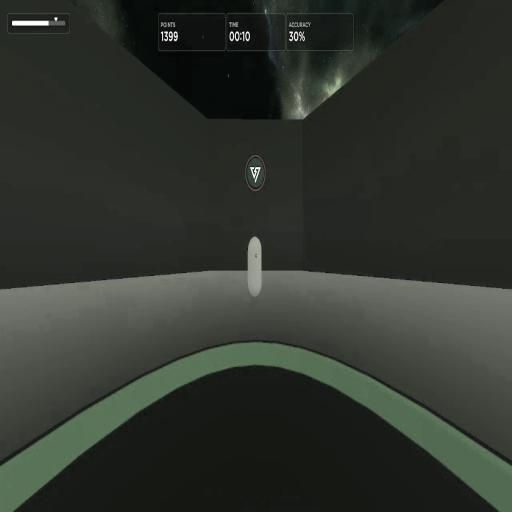Crosshair: (255, 254, 257, 257)
Target: (248, 235, 262, 297)
